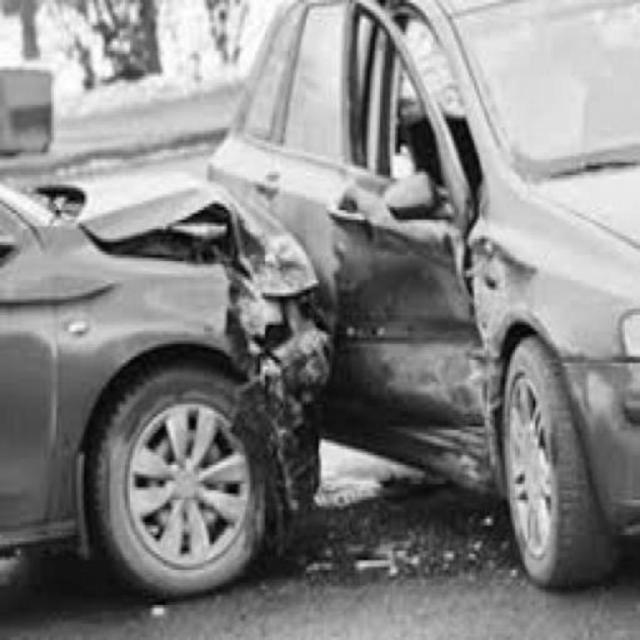accident: (0, 52, 634, 579)
